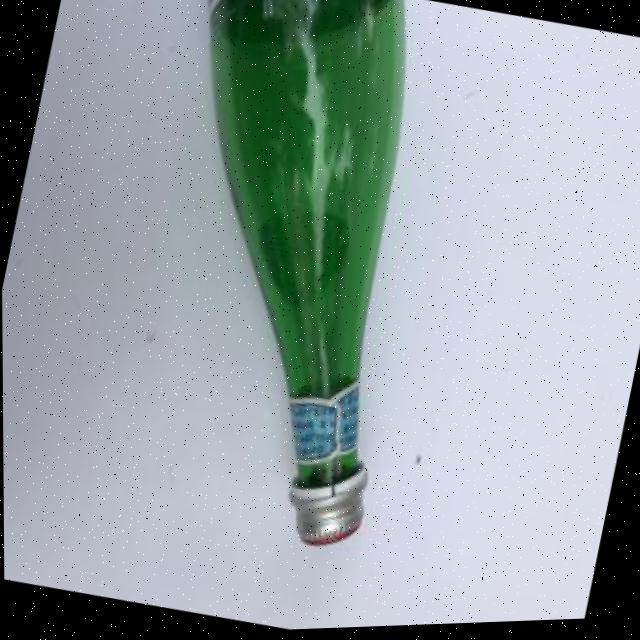glass: (89, 0, 480, 574)
